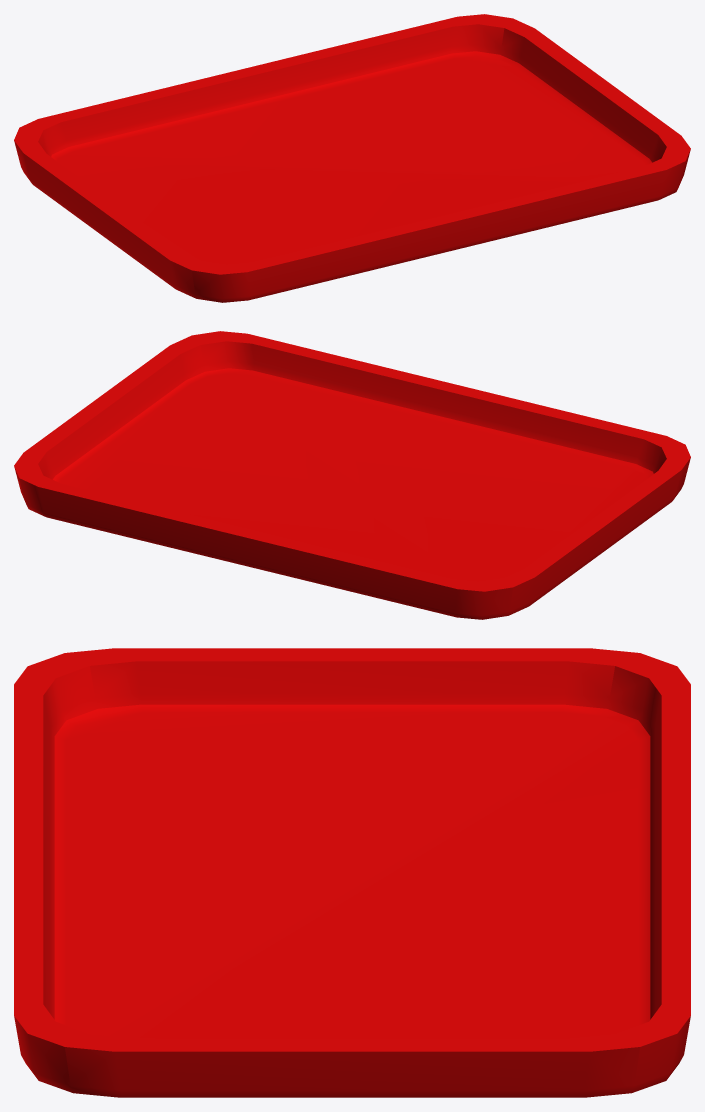
The model's file is hauptma19_Tacek.fbx.
3 renders of one model, top to bottom at view 1: azimuth 30°, elevation 25°; view 2: azimuth 150°, elevation 25°; view 3: azimuth 270°, elevation 25°, orthographic. The views are drawn at different scales.
Parts seen in each view (by area): view 1: tac; view 2: tac; view 3: tac.
Part boxes in pixels (box(x1,y1,x2,y2)): tac: box(14, 14, 690, 302); tac: box(14, 331, 690, 619); tac: box(14, 648, 690, 1097).
Size of the model in its own units: 10.21 by 0.6559 by 7.24.
